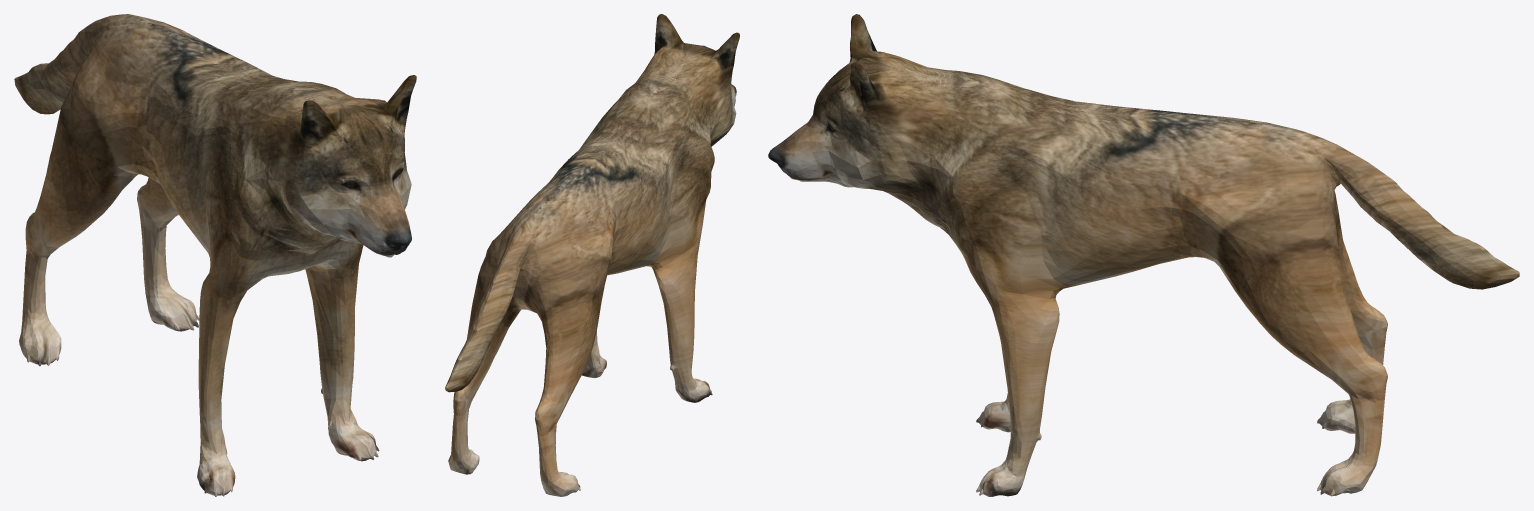
The model's file is lobo.obj.
3 renders of one model, left to right at view 1: azimuth 30°, elevation 25°; view 2: azimuth 150°, elevation 25°; view 3: azimuth 270°, elevation 25°, orthographic. The views are drawn at different scales.
Visible parts, largest first — view 1: WOLFFBXASC046002; view 2: WOLFFBXASC046002; view 3: WOLFFBXASC046002.
Boxes of the visible parts, x1=… form: WOLFFBXASC046002: x1=14, y1=14, x2=416, y2=496; WOLFFBXASC046002: x1=445, y1=14, x2=739, y2=496; WOLFFBXASC046002: x1=768, y1=14, x2=1519, y2=496.
Size of the model in its own units: 1.22 by 2.94 by 4.75.
1 material, 1 textured.
